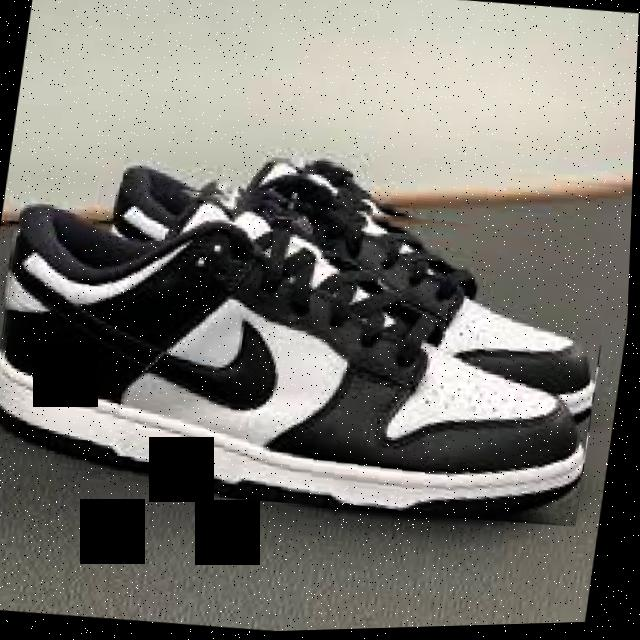shoe: (0, 123, 626, 544), (0, 156, 621, 541)
